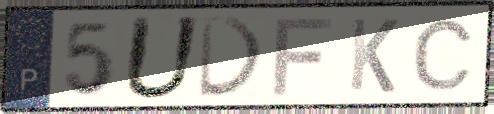5: (61, 19, 119, 98)
C: (410, 17, 477, 93)
D: (196, 15, 268, 101)
F: (270, 15, 336, 98)
K: (346, 15, 401, 96)
U: (118, 14, 205, 103)
